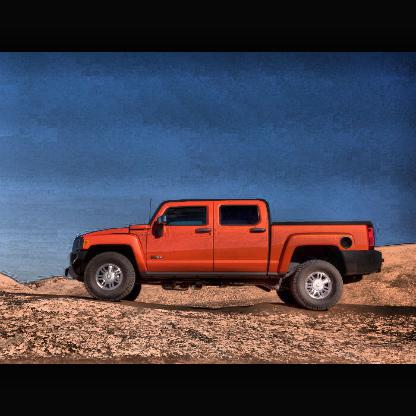HUMMER H3T Crew Cab 2010: (67, 200, 385, 311)
